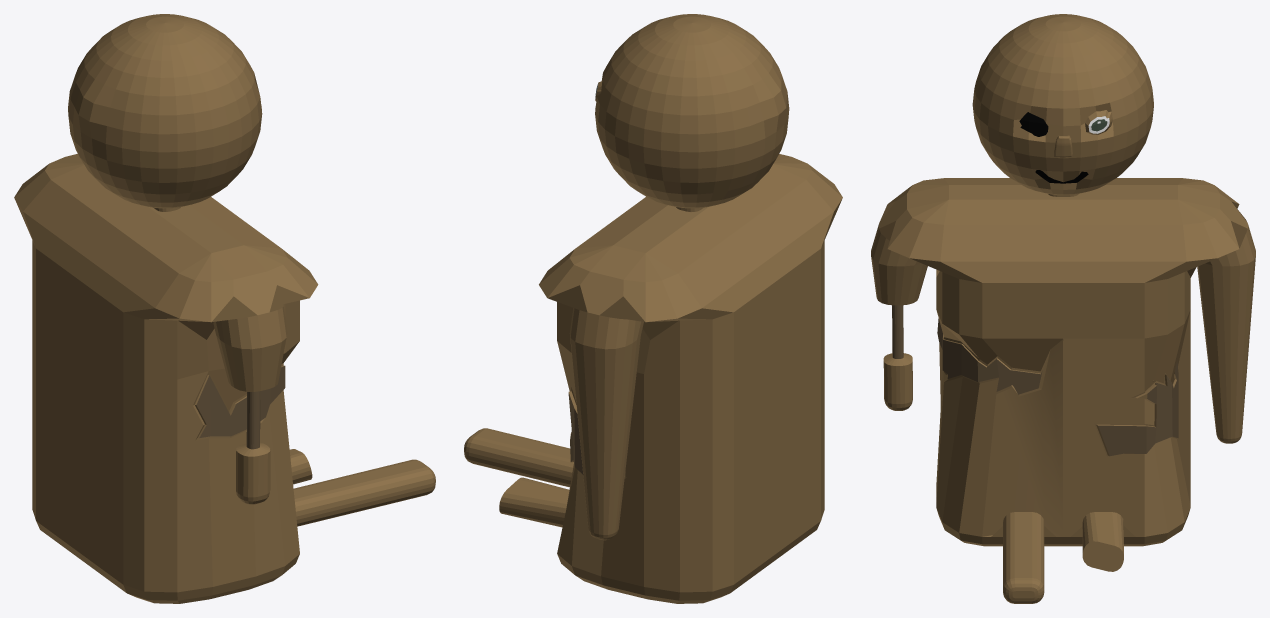
File: Abby.fbx
The picture shows the model from 3 angles, left to right: view 1: azimuth 30°, elevation 25°; view 2: azimuth 150°, elevation 25°; view 3: azimuth 270°, elevation 25°; orthographic projection. The views are drawn at different scales.
Parts seen in each view (by area): view 1: Cube.001; view 2: Cube.001; view 3: Cube.001.
Part boxes in pixels (x1=…): Cube.001: x1=14, y1=14, x2=435, y2=603; Cube.001: x1=464, y1=14, x2=842, y2=603; Cube.001: x1=871, y1=14, x2=1255, y2=603.
Size of the model in its own units: 114 by 175 by 124.
